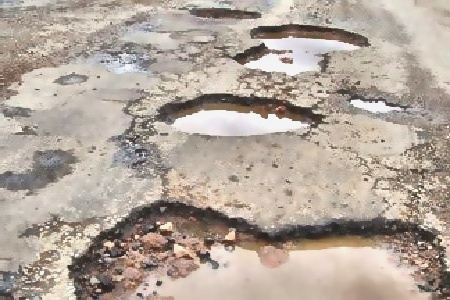pothole: (68, 197, 450, 299), (155, 90, 329, 135), (233, 22, 371, 74), (348, 95, 407, 112), (188, 7, 263, 20)
